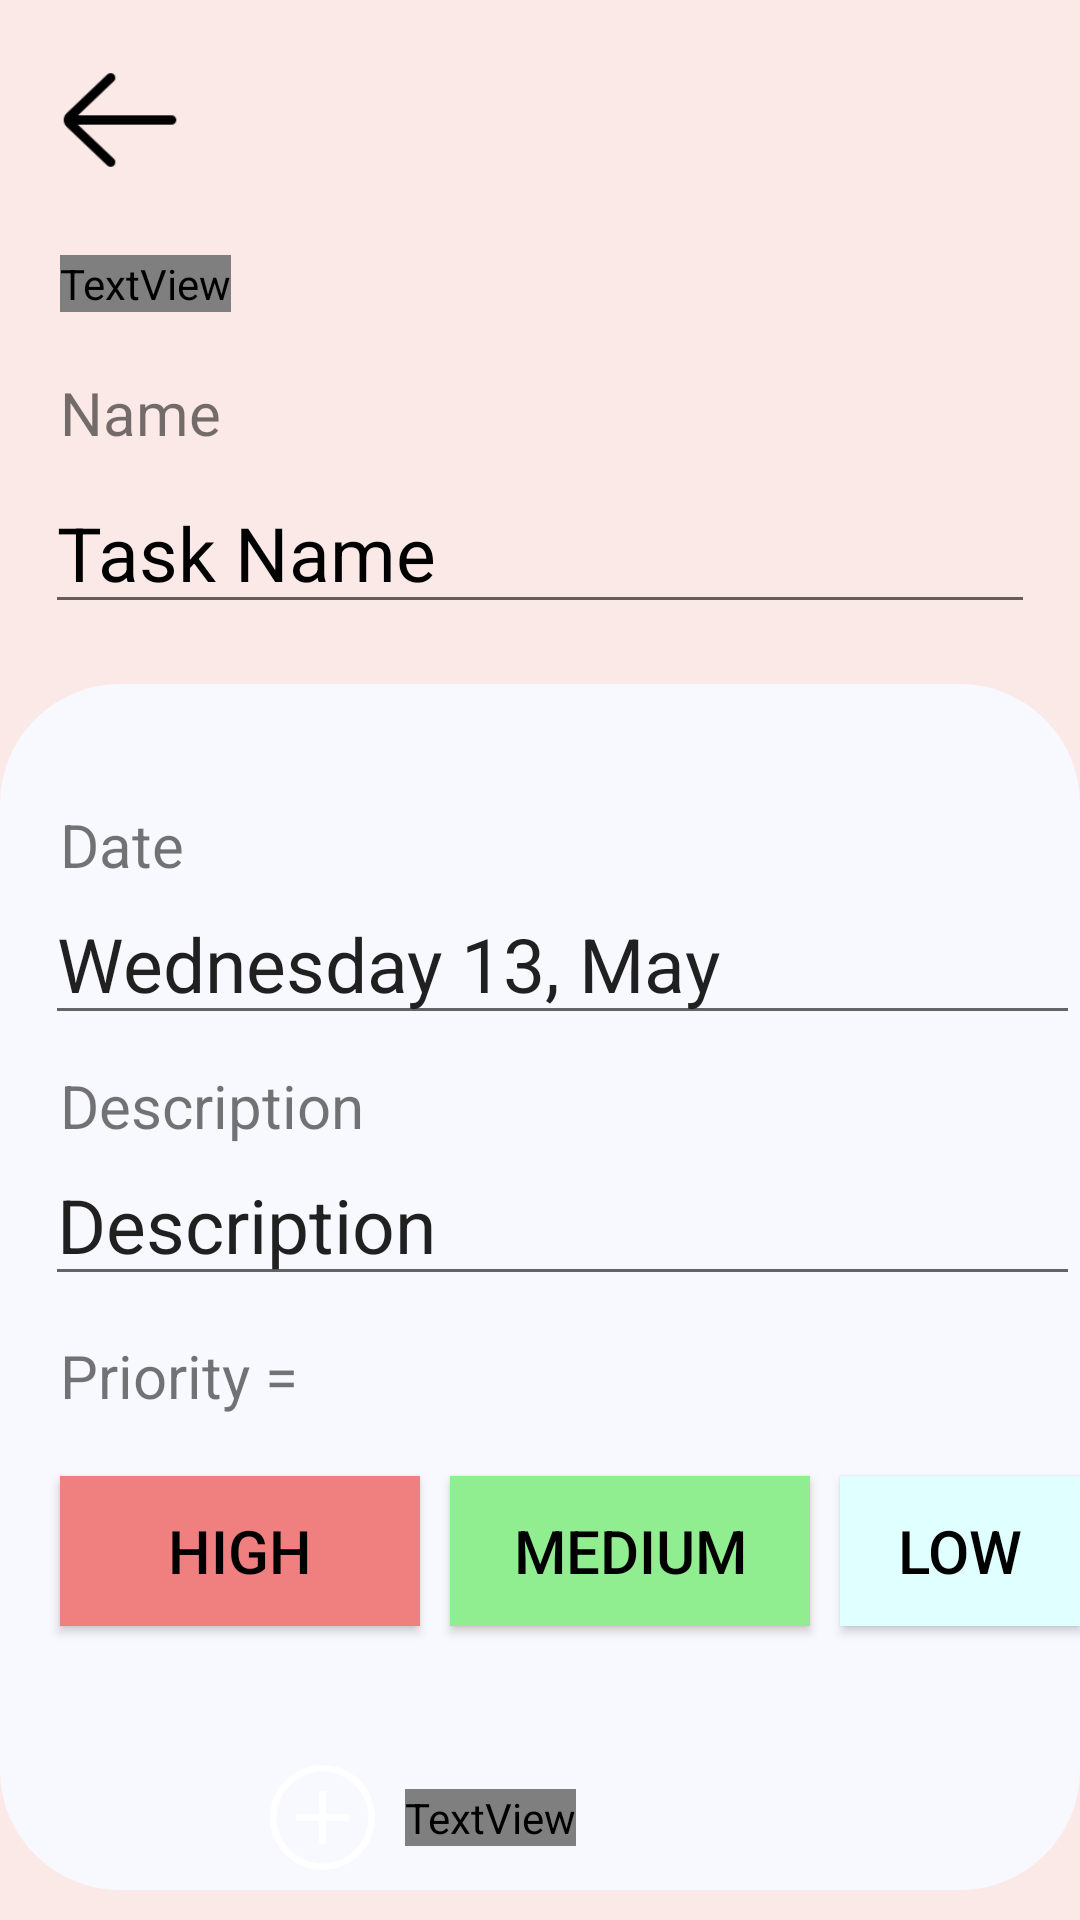

Icons on this 1080w x 1920h Android screen, each with the point to tap as (x,y):
left arrow: (120,120)
